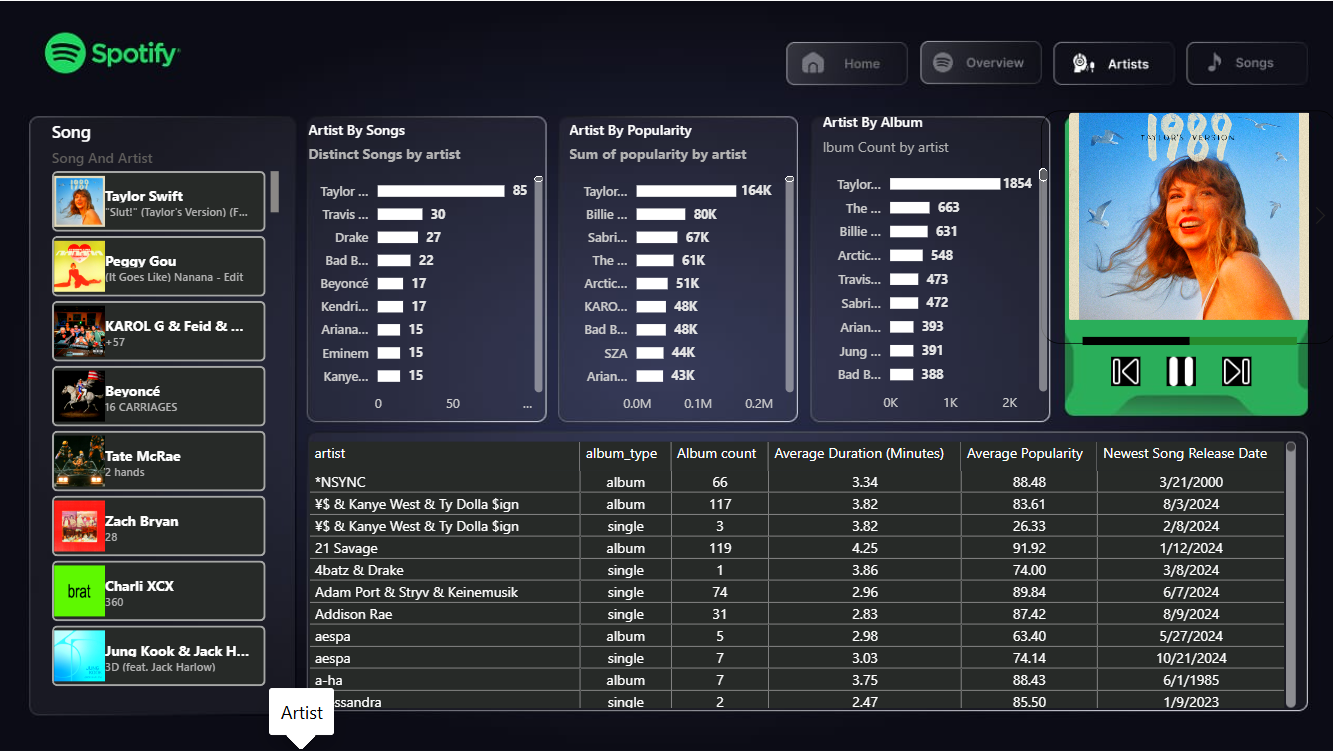

This screenshot's page, from the dashboard's own definition file:
{"tool":"powerbi","page":{"name":"Artist","canvas":[1280,720],"ordinal":2},"visuals":[{"type":"actionButton","box":[753.9,37.1,117.7,39.8],"z":0},{"type":"actionButton","box":[882.8,38.7,114.5,39.8],"z":1000},{"type":"actionButton","box":[1010,37.1,109.8,39.8],"z":2000},{"type":"actionButton","box":[1132.5,37.1,112.9,39.8],"z":3000},{"type":"advancedSlicerVisual","title":"Song ","fields":{"Values":["Top-50-World.song"]},"box":[997.3,105,283.1,222.7],"z":4000},{"type":"hundredPercentStackedBarChart","fields":{"Y":["measures (2).Average Popularity","Avg(Top-50-World.popularity)"]},"box":[1030.7,291.1,214.7,60.4],"z":5000},{"type":"image","box":[1163.9,334,38,40],"z":6000},{"type":"image","box":[1058.9,334,38,40],"z":7000},{"type":"image","box":[1111.4,334,38,40],"z":8000},{"type":"shape","box":[1008,106.6,260.9,221.1],"z":9000},{"type":"clusteredBarChart","title":"Artist By Songs","fields":{"Category":["Top-50-World.artist"],"Y":["measures (2).Distinct Songs"]},"box":[292.7,112.9,233.8,289.5],"z":10000},{"type":"clusteredBarChart","title":"Artist By Popularity","fields":{"Category":["Top-50-World.artist"],"Y":["Sum(Top-50-World.popularity)"]},"box":[540.8,112.9,224.3,289.5],"z":11000},{"type":"clusteredBarChart","title":"Artist By Album","fields":{"Category":["Top-50-World.artist"],"Y":["measures (2).lbum Count"]},"box":[784.2,106.6,224.3,295.9],"z":12000},{"type":"advancedSlicerVisual","title":"Song ","fields":{"Values":["Top-50-World.song"]},"box":[47.7,112.9,227.5,566.3],"z":13000},{"type":"tableEx","fields":{"Values":["Top-50-World.artist","Top-50-World.album_type","measures (2).Album count","measures (2).Average Duration (Minutes)","measures (2).Average Popularity","measures (2).Newest Song Release Date"]},"box":[292.7,415.1,952.8,264],"z":14000}]}

Visuals, with their boxes in screenshot pixels (x1, y1, x2, y2), scaled from the page's 1280x720 canvas onto the 1333x751 screenshot:
actionButton: <bbox>785, 39, 908, 80</bbox>
actionButton: <bbox>919, 40, 1039, 82</bbox>
actionButton: <bbox>1052, 39, 1166, 80</bbox>
actionButton: <bbox>1179, 39, 1297, 80</bbox>
"Song " advancedSlicerVisual: <bbox>1039, 110, 1332, 342</bbox>
hundredPercentStackedBarChart - measures (2).Average Popularity x Avg(Top-50-World.popularity): <bbox>1073, 304, 1297, 367</bbox>
image: <bbox>1212, 348, 1252, 390</bbox>
image: <bbox>1103, 348, 1142, 390</bbox>
image: <bbox>1157, 348, 1197, 390</bbox>
shape: <bbox>1050, 111, 1321, 342</bbox>
"Artist By Songs" clusteredBarChart: <bbox>305, 118, 548, 420</bbox>
"Artist By Popularity" clusteredBarChart: <bbox>563, 118, 797, 420</bbox>
"Artist By Album" clusteredBarChart: <bbox>817, 111, 1050, 420</bbox>
"Song " advancedSlicerVisual: <bbox>50, 118, 287, 708</bbox>
tableEx - Top-50-World.artist x Top-50-World.album_type: <bbox>305, 433, 1297, 708</bbox>
